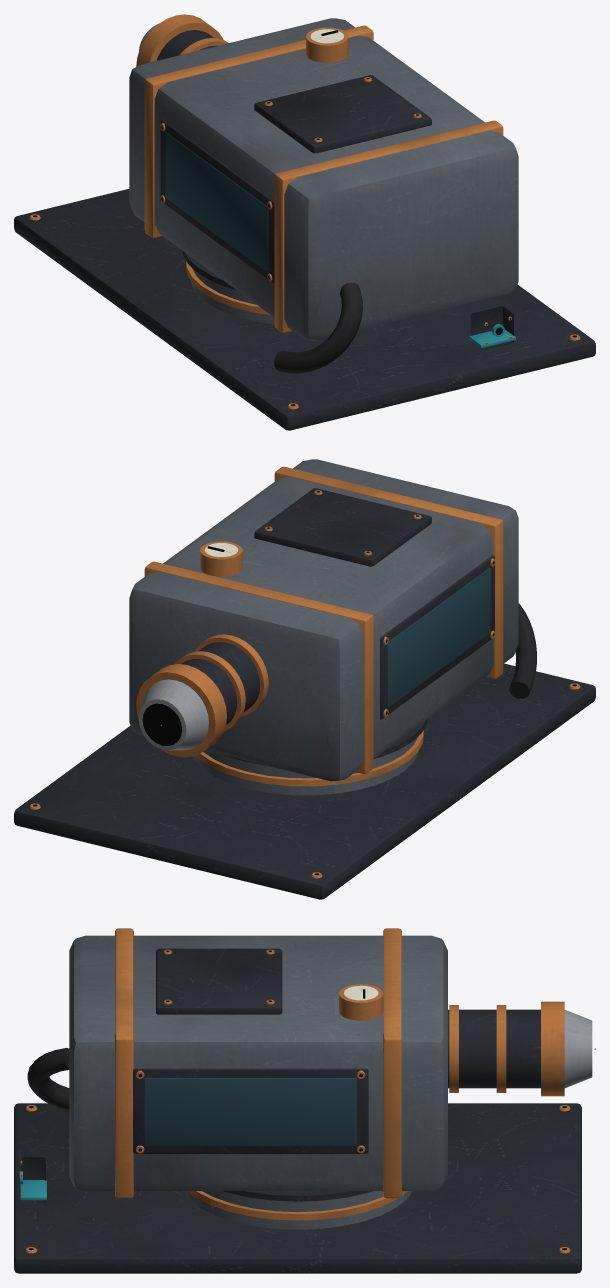
The model's file is water_cannon.glb.
3 views of the same model, one above another, from view 1: azimuth 30°, elevation 25°; view 2: azimuth 150°, elevation 25°; view 3: azimuth 270°, elevation 25° (orthographic). The views are drawn at different scales.
Visible parts, largest first — view 1: Body, Barrel; view 2: Body, Barrel; view 3: Body, Barrel.
Part boxes in pixels (x1,y1,x2,y2): Body: (14, 18, 595, 430); Barrel: (136, 14, 228, 66); Body: (14, 459, 595, 899); Barrel: (136, 634, 268, 757); Body: (14, 928, 581, 1273); Barrel: (448, 1001, 592, 1096).
Bounding box in the file's own units: 0.47 × 0.325 × 0.7377.
10 materials, 6 textured.
